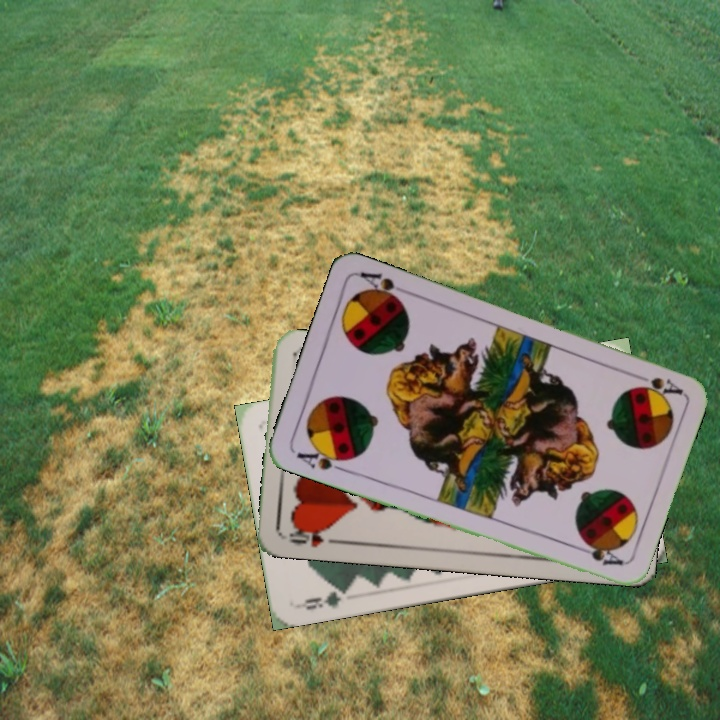G9: (294, 583, 351, 613)
HO: (284, 522, 341, 550)
SA: (292, 442, 352, 475), (627, 368, 685, 400)
